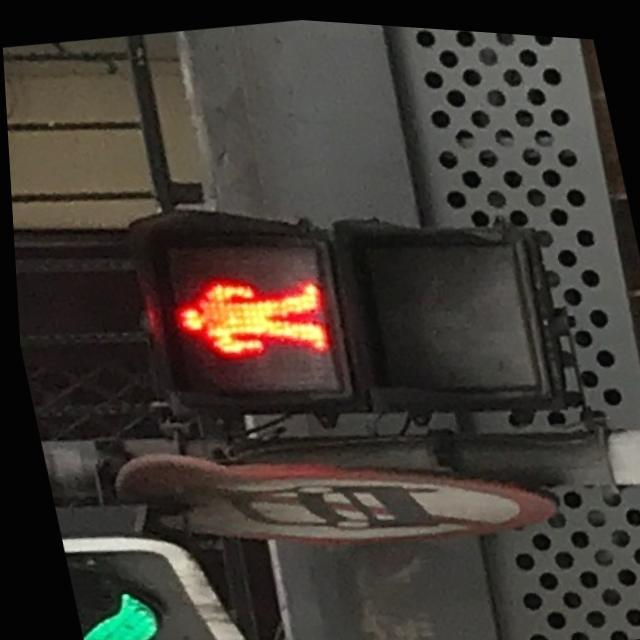red_light: (156, 240, 332, 371)
